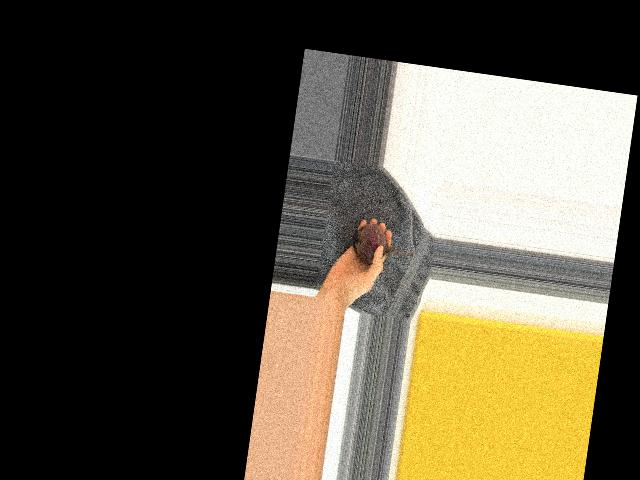beet: (348, 220, 420, 270)
